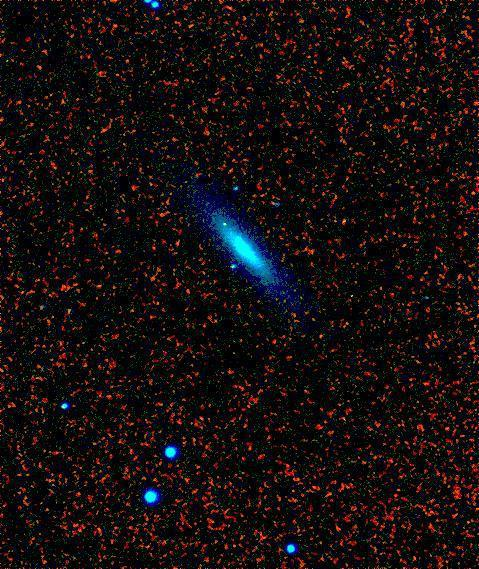star: (210, 208, 240, 238)
